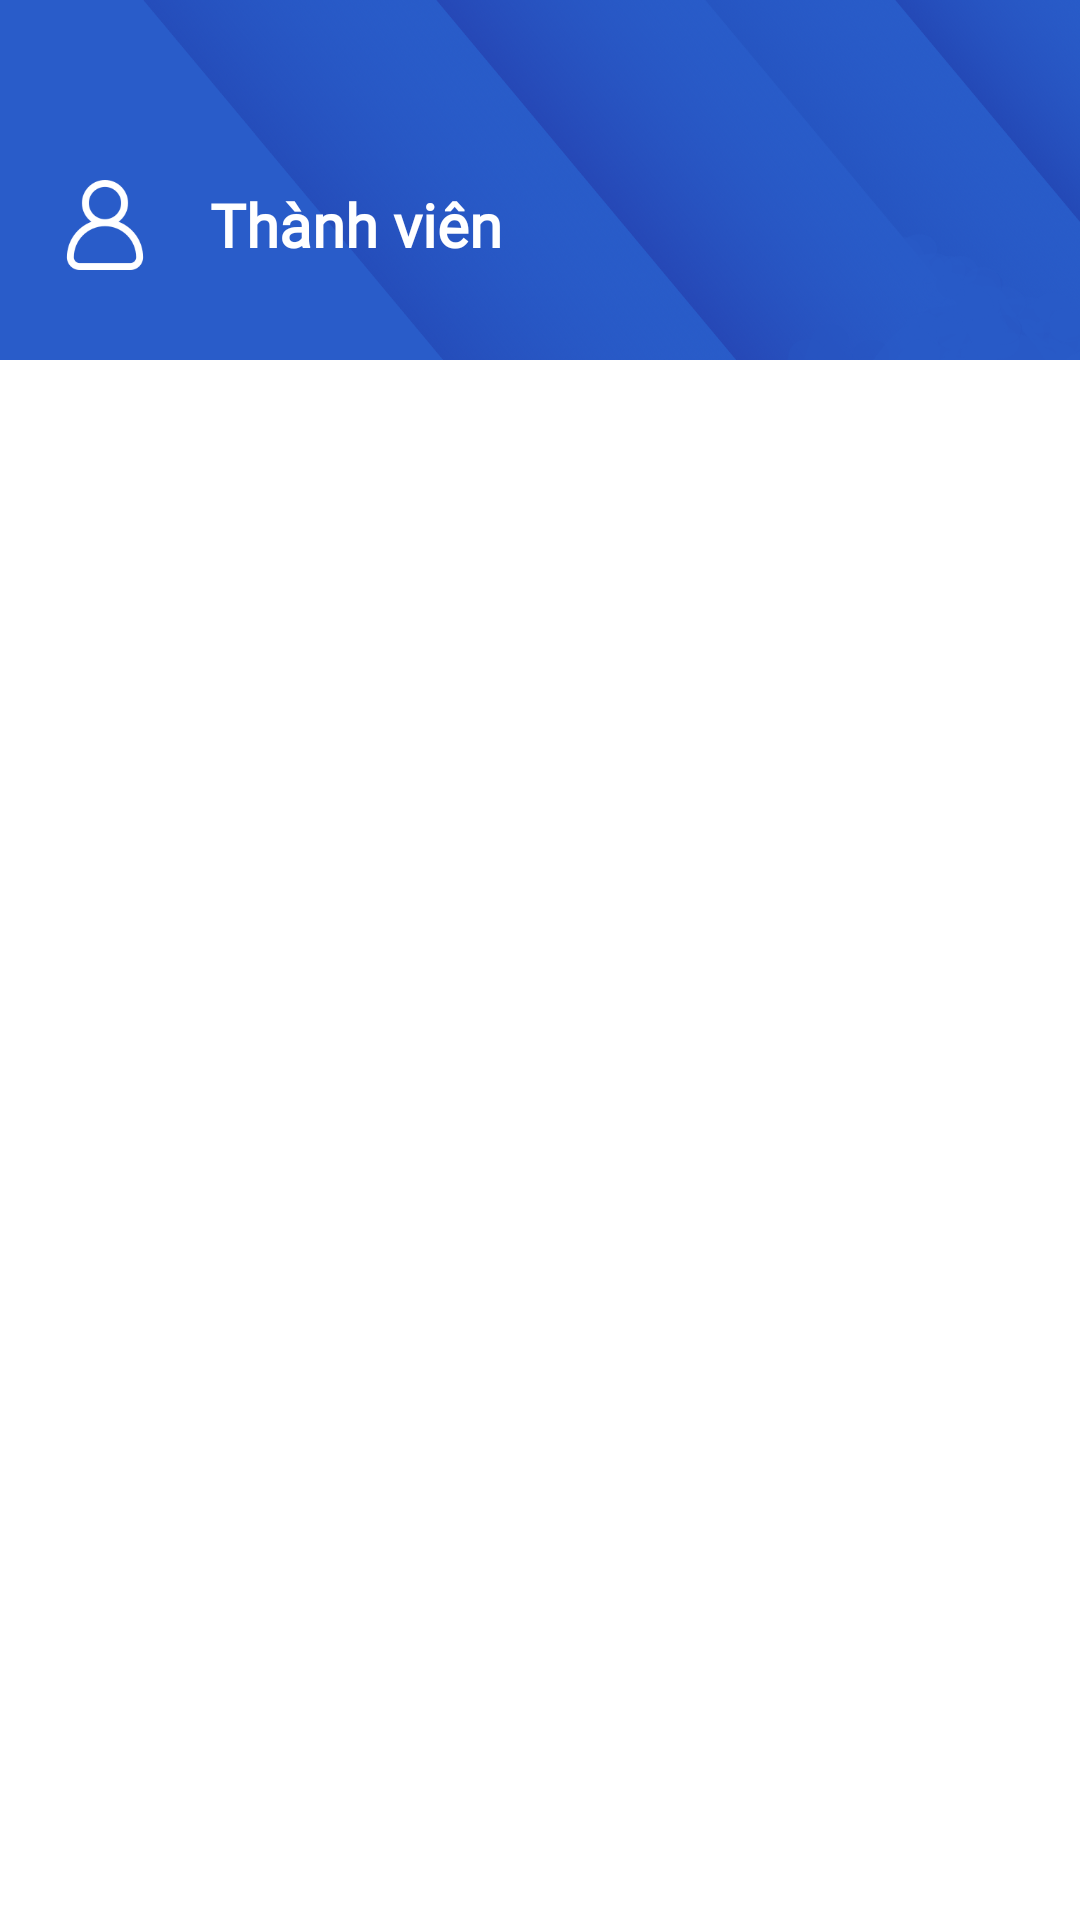

Screen size 1080w x 1920h. Icon name, then its center in pixels as [x,y]:
user: [105,225]
